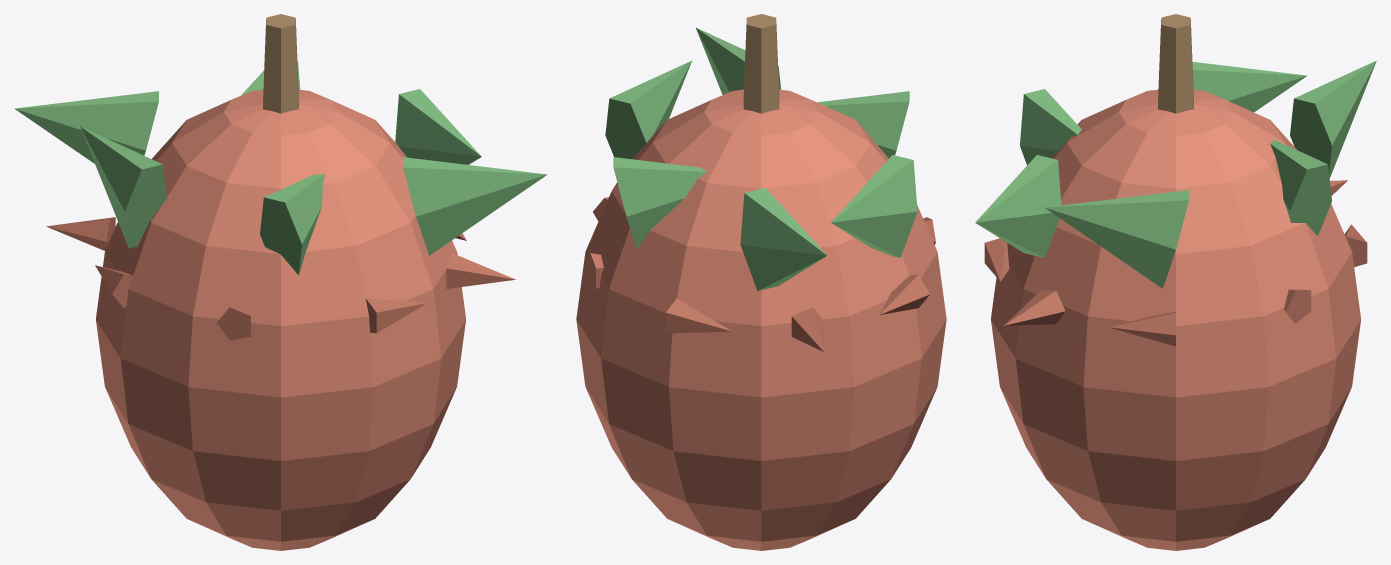
The model's file is 4097_thornpear.glb.
3 views of the same model, side by side, from view 1: azimuth 30°, elevation 25°; view 2: azimuth 150°, elevation 25°; view 3: azimuth 270°, elevation 25° (orthographic).
Size of the model in its own units: 0.8 by 1.17 by 0.8247.
